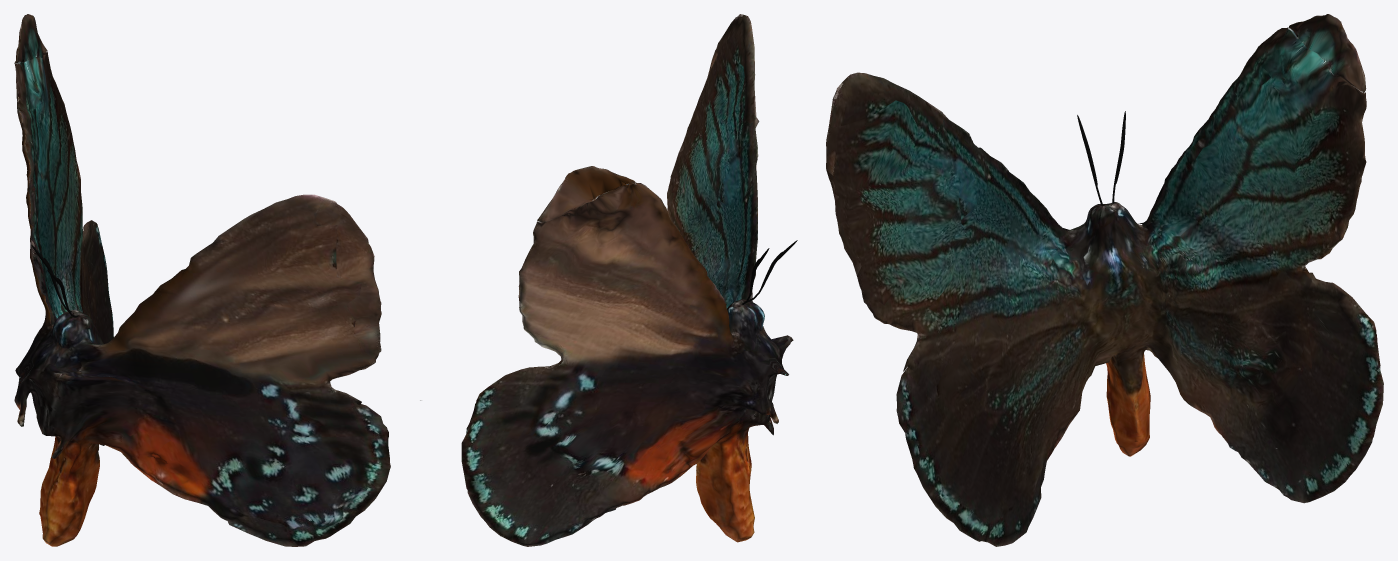
The model's file is atala.obj.
3 views of the same model, side by side, from view 1: azimuth 30°, elevation 25°; view 2: azimuth 150°, elevation 25°; view 3: azimuth 270°, elevation 25° (orthographic). The views are drawn at different scales.
Visible parts, largest first — view 1: AtalaREDUCED; view 2: AtalaREDUCED; view 3: AtalaREDUCED.
Boxes of the visible parts, left/top/right/bottom form: AtalaREDUCED: left=14, top=14, right=390, bottom=546; AtalaREDUCED: left=420, top=14, right=793, bottom=546; AtalaREDUCED: left=826, top=14, right=1383, bottom=546.
Size of the model in its own units: 5.04 by 6.97 by 7.47.
